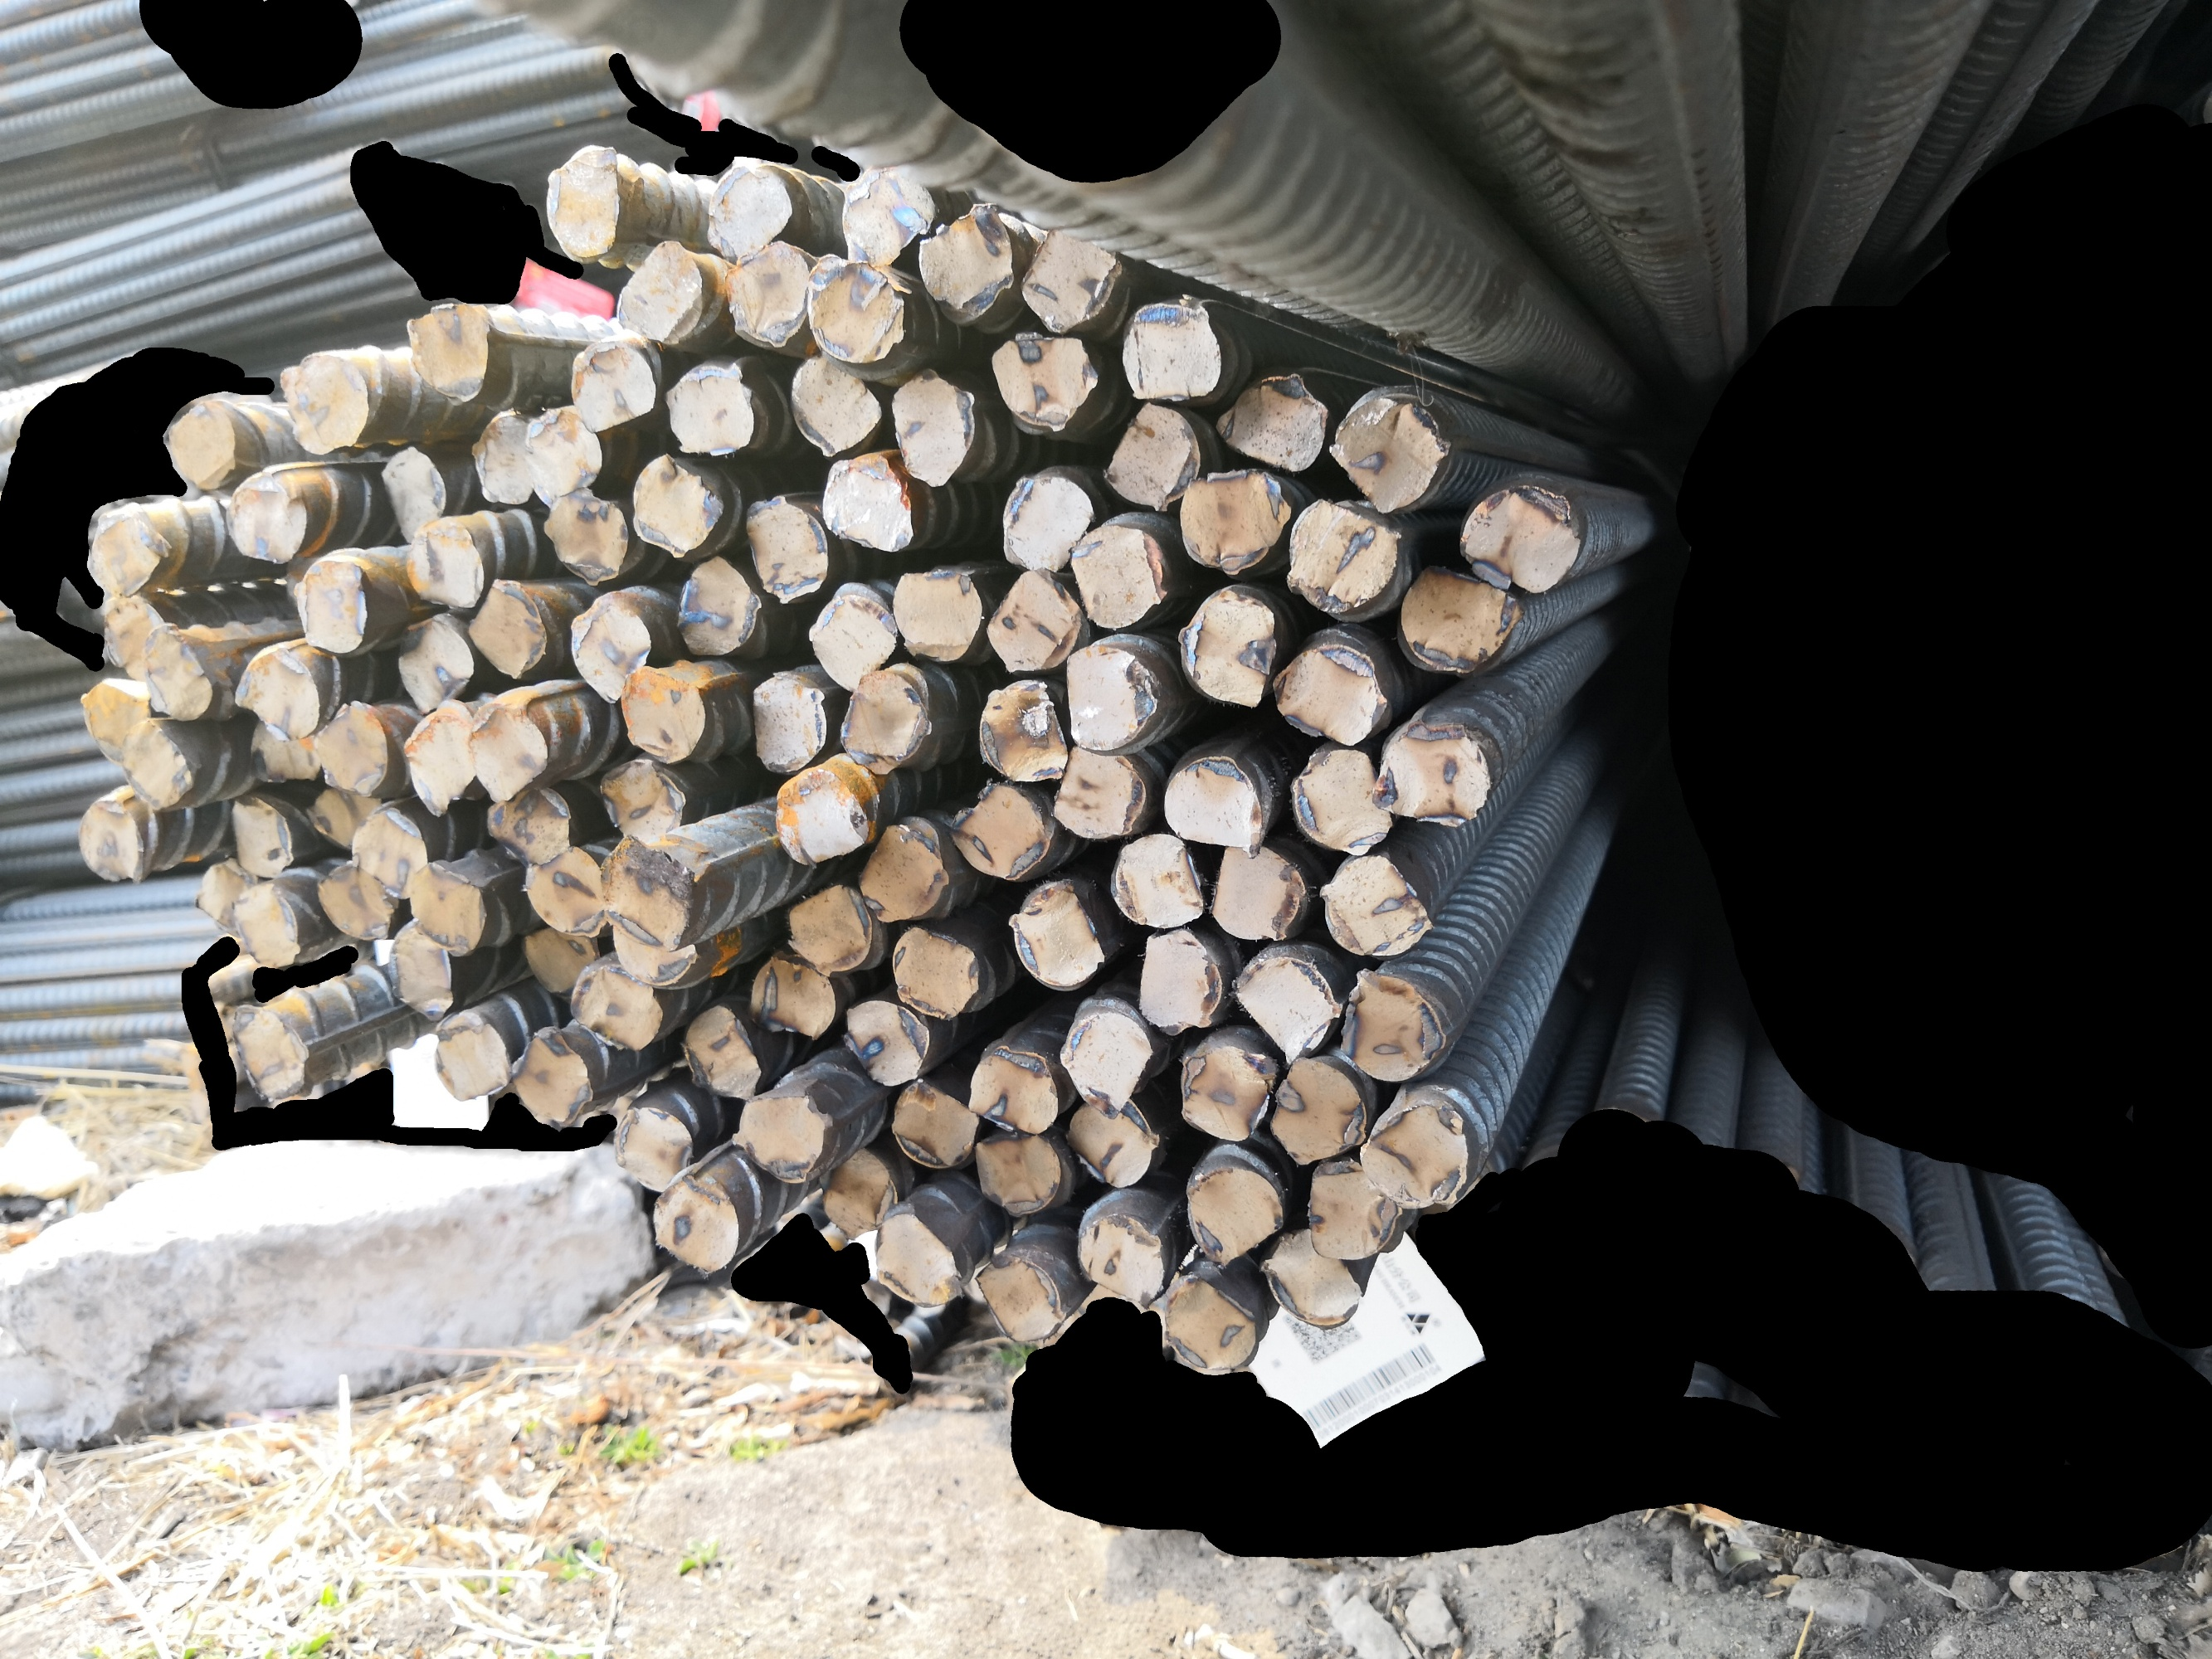rebar: (1325, 390, 1452, 519), (1285, 491, 1412, 615), (1398, 561, 1530, 676), (1455, 479, 1584, 596), (1367, 716, 1494, 829), (1337, 965, 1452, 1087), (1269, 638, 1393, 751), (1175, 467, 1295, 580), (1356, 1100, 1475, 1213), (1318, 850, 1442, 958), (1173, 584, 1278, 711), (1229, 951, 1344, 1065), (802, 249, 910, 368), (1006, 877, 1114, 995), (1210, 369, 1330, 476), (596, 829, 695, 957), (913, 199, 1018, 319), (1285, 744, 1394, 857), (1264, 1054, 1370, 1171), (1098, 397, 1204, 512), (1157, 753, 1267, 863), (1016, 223, 1124, 335), (987, 328, 1100, 434), (981, 563, 1086, 676), (1178, 1161, 1288, 1267), (1259, 1227, 1370, 1331), (1055, 1009, 1157, 1122), (948, 777, 1053, 887), (1116, 298, 1225, 403), (889, 362, 978, 491), (1060, 641, 1161, 755), (1069, 523, 1170, 634), (628, 450, 727, 563), (788, 347, 887, 460), (1177, 1040, 1281, 1147), (837, 160, 940, 268), (1307, 1157, 1410, 1263), (1210, 842, 1313, 946), (818, 450, 919, 556), (729, 1091, 837, 1190), (837, 669, 936, 777), (882, 922, 990, 1021), (608, 234, 706, 343), (974, 676, 1072, 786), (722, 235, 812, 352), (1161, 1276, 1264, 1378), (999, 471, 1098, 577), (275, 347, 373, 455), (1105, 829, 1208, 931), (504, 1026, 603, 1131), (401, 296, 497, 404), (650, 1169, 743, 1281), (1137, 925, 1227, 1039), (852, 821, 950, 925), (741, 491, 830, 605), (772, 767, 872, 868), (779, 880, 879, 981), (1074, 1209, 1173, 1310), (1051, 742, 1150, 843), (657, 364, 762, 460), (804, 591, 899, 695), (673, 552, 765, 660), (1062, 1096, 1164, 1192), (565, 596, 654, 706), (397, 695, 476, 819), (885, 1072, 983, 1171), (971, 1249, 1070, 1347), (870, 1209, 966, 1310), (617, 662, 709, 767), (540, 484, 631, 591), (676, 1000, 765, 1108), (889, 566, 985, 666), (544, 143, 624, 261), (518, 404, 605, 512), (228, 643, 322, 742), (704, 160, 798, 260), (964, 1042, 1062, 1136), (568, 962, 668, 1054), (465, 701, 551, 807), (594, 755, 690, 847), (748, 669, 830, 777), (519, 843, 608, 943), (404, 856, 490, 958), (312, 695, 394, 802), (838, 995, 931, 1089), (568, 340, 659, 436), (221, 469, 310, 566), (967, 1131, 1063, 1220), (394, 617, 478, 718), (465, 575, 542, 685), (85, 502, 171, 599), (293, 552, 373, 655), (230, 1002, 310, 1103), (345, 807, 431, 901), (610, 1100, 695, 1194), (373, 441, 450, 545), (818, 1143, 899, 1241), (746, 955, 838, 1040), (403, 519, 486, 613), (139, 620, 214, 725), (483, 782, 573, 868), (115, 721, 199, 814), (71, 796, 153, 889), (164, 396, 239, 495), (431, 1014, 512, 1105), (73, 680, 157, 763), (98, 598, 178, 685), (465, 411, 537, 509), (511, 924, 605, 997), (380, 934, 455, 1023), (314, 861, 394, 943), (610, 918, 706, 986), (300, 782, 389, 856), (228, 887, 303, 969), (228, 791, 296, 880), (248, 713, 326, 784), (190, 861, 256, 939)
